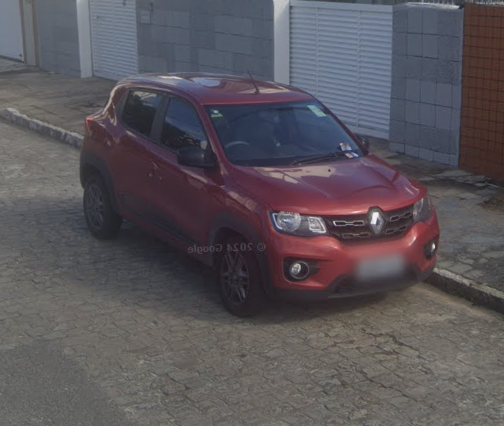car: (77, 68, 444, 319)
